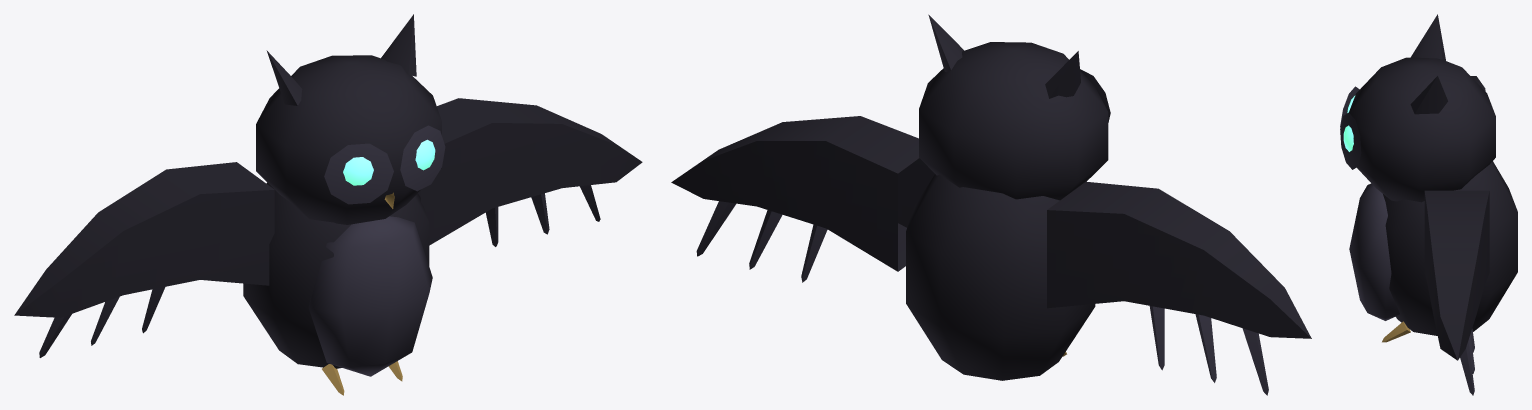
The model's file is beast-owl.glb.
3 renders of one model, left to right at view 1: azimuth 30°, elevation 25°; view 2: azimuth 150°, elevation 25°; view 3: azimuth 270°, elevation 25°, orthographic. The views are drawn at different scales.
Parts seen in each view (by area): view 1: head, wing_r, body, wing_l, glow_eyes; view 2: wing_r, body, head, wing_l; view 3: head, body, wing_l, glow_eyes.
Boxes of the visible parts, x1=… form: head: x1=256, y1=14, x2=445, y2=224; wing_r: x1=14, y1=162, x2=274, y2=357; body: x1=243, y1=182, x2=432, y2=395; wing_l: x1=418, y1=98, x2=642, y2=246; glow_eyes: x1=343, y1=139, x2=435, y2=185; wing_r: x1=1047, y1=181, x2=1311, y2=395; body: x1=906, y1=174, x2=1095, y2=380; head: x1=919, y1=14, x2=1110, y2=200; wing_l: x1=671, y1=116, x2=934, y2=282; head: x1=1340, y1=14, x2=1495, y2=202; body: x1=1349, y1=161, x2=1517, y2=342; wing_l: x1=1424, y1=190, x2=1489, y2=395; glow_eyes: x1=1343, y1=95, x2=1355, y2=151.
Bounding box in the file's own units: 0.86 × 0.4416 × 0.2457.
